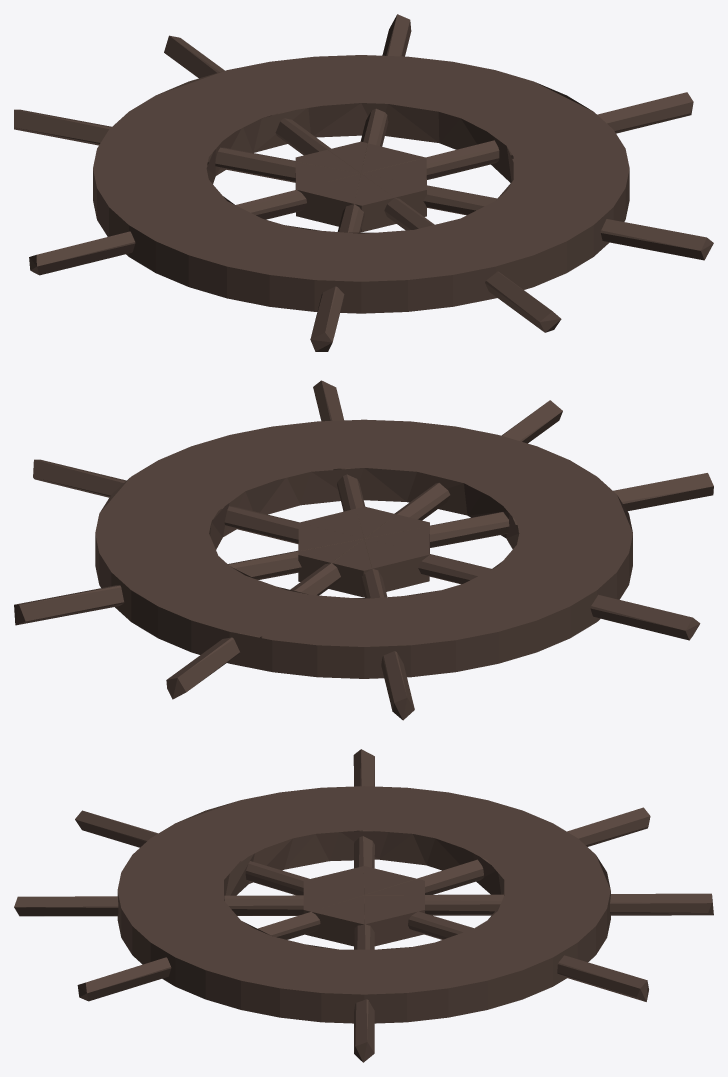
The model's file is Steuerrad.fbx.
3 renders of one model, top to bottom at view 1: azimuth 30°, elevation 25°; view 2: azimuth 150°, elevation 25°; view 3: azimuth 270°, elevation 25°, orthographic. The views are drawn at different scales.
Visible parts, largest first — view 1: Röhre, Kapsel_3, Kapsel, Deckfläche_1, Kapsel_1, Kapsel_2, Extrudieren; view 2: Röhre, Kapsel_2, Kapsel, Deckfläche_1, Kapsel_1, Kapsel_3, Extrudieren; view 3: Röhre, Kapsel_1, Kapsel_2, Kapsel_3, Deckfläche_1, Kapsel, Extrudieren.
Boxes of the visible parts, x1,y1,x2,y2 form: Röhre: [93, 55, 629, 313]; Kapsel_3: [14, 109, 713, 260]; Kapsel: [29, 92, 693, 275]; Deckfläche_1: [295, 141, 426, 205]; Kapsel_1: [164, 35, 561, 332]; Kapsel_2: [310, 14, 411, 351]; Extrudieren: [295, 173, 426, 232]; Röhre: [95, 419, 632, 678]; Kapsel_2: [14, 473, 713, 625]; Kapsel: [33, 459, 700, 640]; Deckfläche_1: [298, 506, 429, 570]; Kapsel_1: [166, 400, 562, 699]; Kapsel_3: [313, 380, 414, 720]; Extrudieren: [298, 534, 429, 597]; Röhre: [117, 786, 610, 1023]; Kapsel_1: [14, 893, 713, 916]; Kapsel_2: [75, 810, 648, 1001]; Kapsel_3: [77, 807, 650, 1001]; Deckfläche_1: [303, 866, 424, 924]; Kapsel: [353, 749, 374, 1062]; Extrudieren: [303, 910, 424, 946].
Bounding box in the file's own units: 519 × 24 × 519.
1 material, 1 textured.
